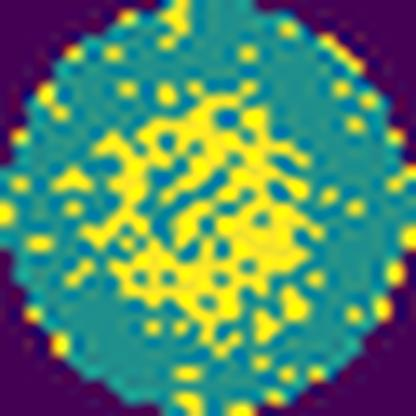Donut: (50, 69, 330, 366)
